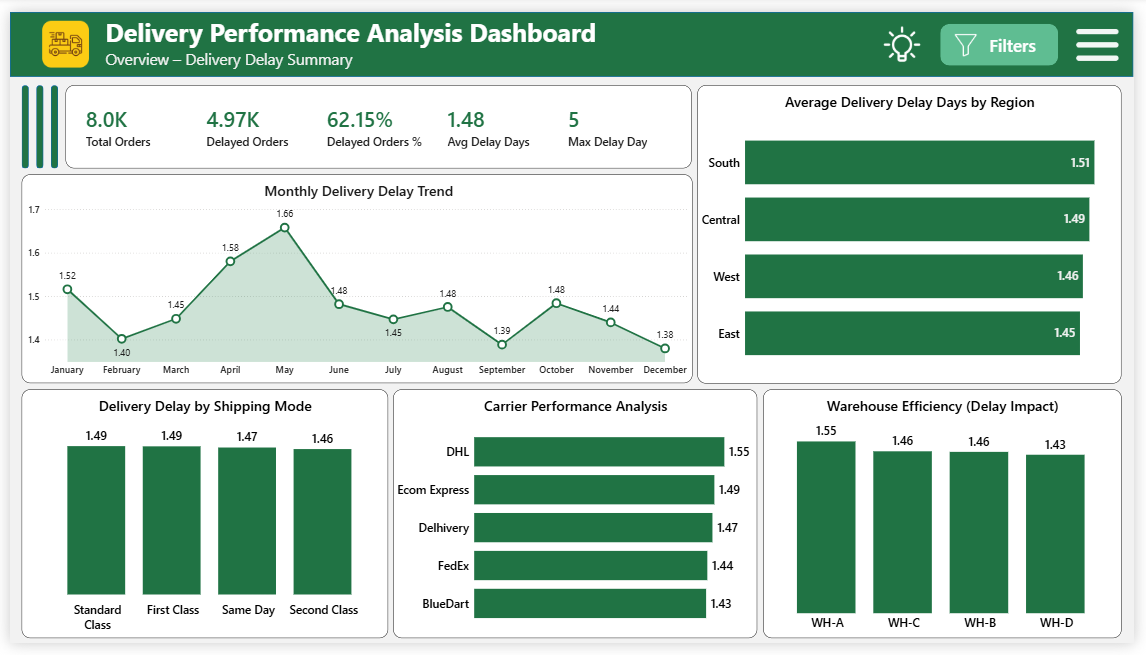

The dashboard page shown, as its layout file describes it:
{"tool":"powerbi","page":{"name":"Overview – Delivery Delay Summary","canvas":[1920,1080],"ordinal":0},"visuals":[{"type":"shape","title":"Title Bg Box","box":[0,0,1920,110.9],"z":0},{"type":"shape","box":[1590,20,202,72],"z":0,"group":"g1"},{"type":"shape","box":[20,125,12.1,142.5],"z":0,"group":"g2"},{"type":"textbox","title":"Title Box","box":[150,0,1100,110],"z":1000},{"type":"image","box":[1614,38,38,38],"z":1000,"group":"g1"},{"type":"shape","box":[46.2,125,12.1,142.5],"z":1000,"group":"g2"},{"type":"group","id":"g1","title":"Filter Btn","box":[1590,20,200,72.5],"z":2000},{"type":"shape","box":[1670,34,107,44],"z":2000,"group":"g1"},{"type":"shape","box":[70.4,125,12.1,142.5],"z":2000,"group":"g2"},{"type":"image","title":"Logo ","box":[56,16,80,80],"z":3000},{"type":"group","id":"g2","title":"KPI near Lines","box":[20,125,62.5,142.5],"z":4000},{"type":"cardVisual","fields":{"Data":["Measures_.Total Orders","Measures_.Delayed Orders","Measures_.Delay %","Measures_.Avg Delay Days","Measures_.Max Delay Day"]},"box":[95,125,1070,142.5],"z":5000},{"type":"barChart","title":"Average Delivery Delay Days by Region","fields":{"Category":["delivery_performance_CLEANED_dataset.Region"],"Y":["Avg(delivery_performance_CLEANED_dataset.Delay Days)"]},"box":[1175,125,725,510],"z":6000},{"type":"clusteredColumnChart","title":"Delivery Delay by Shipping Mode","fields":{"Category":["delivery_performance_CLEANED_dataset.Ship Mode"],"Y":["Avg(delivery_performance_CLEANED_dataset.Delay Days)"]},"box":[20,645,626,425],"z":7000},{"type":"clusteredColumnChart","title":"Warehouse Efficiency (Delay Impact)","fields":{"Category":["delivery_performance_CLEANED_dataset.Warehouse Location"],"Y":["Avg(delivery_performance_CLEANED_dataset.Delay Days)"]},"box":[1287.5,645,612.5,425],"z":8000},{"type":"barChart","title":"Carrier Performance Analysis","fields":{"Category":["delivery_performance_CLEANED_dataset.Carrier"],"Y":["Avg(delivery_performance_CLEANED_dataset.Delay Days)"]},"box":[655,645,622.5,425],"z":9000},{"type":"lineChart","title":"Monthly Delivery Delay Trend","fields":{"Category":["delivery_performance_CLEANED_dataset.Order Date.Variation.Date Hierarchy.Month"],"Y":["Avg(delivery_performance_CLEANED_dataset.Delay Days)"]},"box":[20,277,1147,357],"z":11000},{"type":"image","title":"Menu Bar Icon","box":[1822,20,72.5,72.5],"z":12000},{"type":"image","title":"Insights Page Icon","box":[1490,20,70,70],"z":13000}]}

Visuals, with their boxes in screenshot pixels (x1, y1, x2, y2), scaled from the page's 1920x1080 canvas onto the 1146x655 screenshot:
"Title Bg Box" shape: (left=0, top=0, right=1145, bottom=67)
shape: (left=949, top=12, right=1070, bottom=56)
shape: (left=12, top=76, right=19, bottom=162)
"Title Box" textbox: (left=90, top=0, right=746, bottom=67)
image: (left=963, top=23, right=986, bottom=46)
shape: (left=28, top=76, right=35, bottom=162)
"Filter Btn" group: (left=949, top=12, right=1068, bottom=56)
shape: (left=997, top=21, right=1061, bottom=47)
shape: (left=42, top=76, right=49, bottom=162)
"Logo " image: (left=33, top=10, right=81, bottom=58)
"KPI near Lines" group: (left=12, top=76, right=49, bottom=162)
cardVisual - Measures_.Total Orders x Measures_.Delayed Orders: (left=57, top=76, right=695, bottom=162)
"Average Delivery Delay Days by Region" barChart: (left=701, top=76, right=1134, bottom=385)
"Delivery Delay by Shipping Mode" clusteredColumnChart: (left=12, top=391, right=386, bottom=649)
"Warehouse Efficiency (Delay Impact)" clusteredColumnChart: (left=768, top=391, right=1134, bottom=649)
"Carrier Performance Analysis" barChart: (left=391, top=391, right=763, bottom=649)
"Monthly Delivery Delay Trend" lineChart: (left=12, top=168, right=697, bottom=385)
"Menu Bar Icon" image: (left=1088, top=12, right=1131, bottom=56)
"Insights Page Icon" image: (left=889, top=12, right=931, bottom=55)
